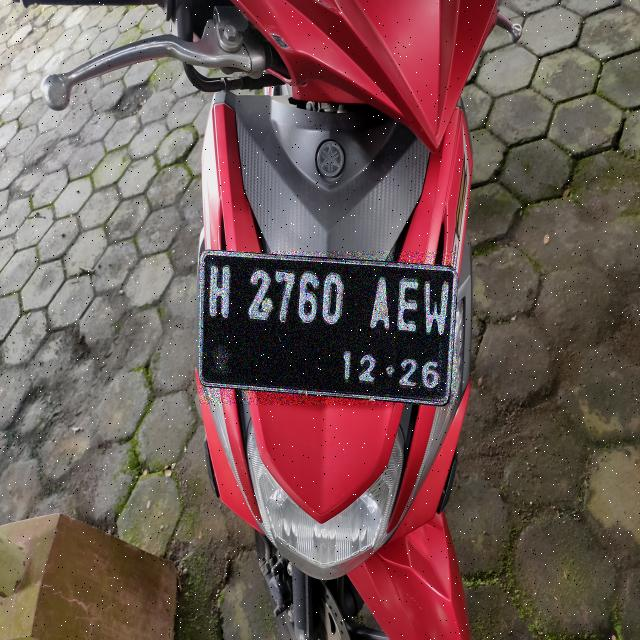plate: (199, 252, 456, 404)
